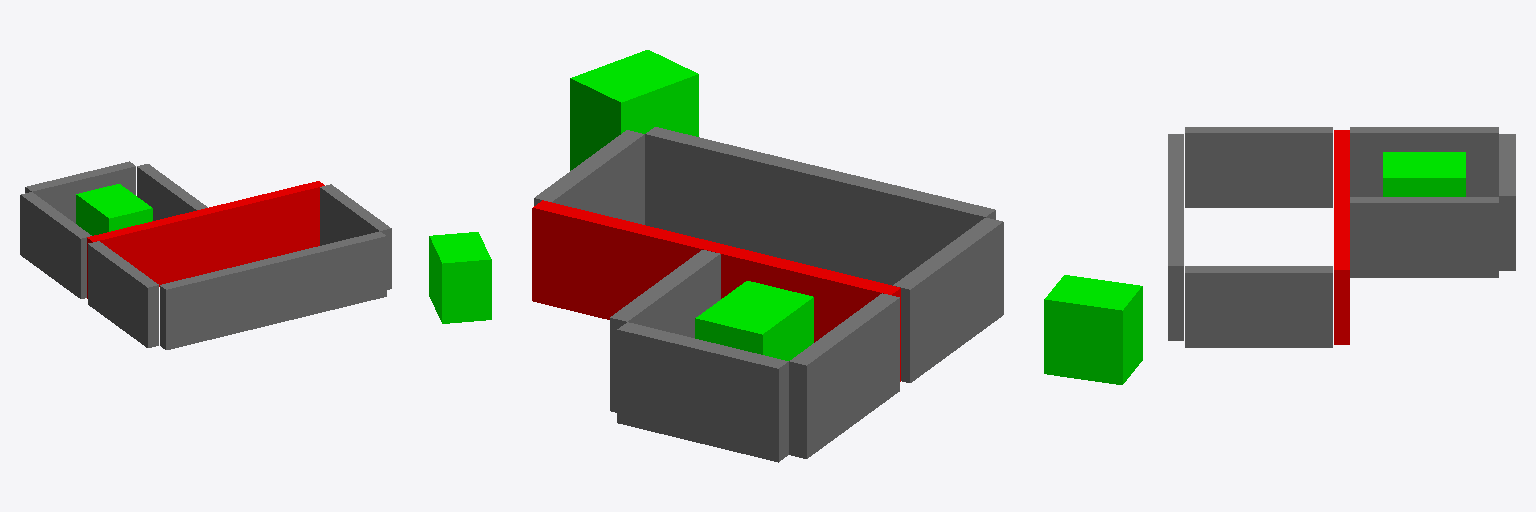
robot.urdf — move_n_times2:
<?xml version="1.0"?>
<!-- created with Phobos 1.0.1 "Capricious Choutengan" -->
  <robot name="move_n_times2">

    <link name="base_link">
    </link>

    <link name="goal">
    </link>

    <link name="link_0_joint_0">
      <visual name="visual_box_2_link_0">
        <origin xyz="0 0 0" rpy="0 0 0"/>
        <geometry>
          <box size="0.374 0.499 0.499"/>
        </geometry>
        <material name="green"/>
      </visual>
      <collision name="collision_box_2_link_0">
        <origin xyz="0 0 0" rpy="0 0 0"/>
        <geometry>
          <box size="0.374 0.499 0.499"/>
        </geometry>
      </collision>
    </link>

    <link name="link_0_joint_0.001">
      <visual name="visual_box_2_link_0.001">
        <origin xyz="0 0 0" rpy="0 0 0"/>
        <geometry>
          <box size="0.37363 0.4985 0.4985"/>
        </geometry>
        <material name="green_translucent"/>
      </visual>
    </link>

    <link name="link_0_joint_1">
    </link>

    <link name="link_0_joint_1.001">
    </link>

    <link name="link_0_joint_2">
    </link>

    <link name="link_1_joint_0">
      <visual name="visual_box_3_link_1">
        <origin xyz="0 0 0" rpy="0 0 0"/>
        <geometry>
          <box size="1.999 0.099 0.499"/>
        </geometry>
        <material name="red"/>
      </visual>
      <collision name="collision_box_3_link_1">
        <origin xyz="0 0 0" rpy="0 0 0"/>
        <geometry>
          <box size="1.999 0.099 0.499"/>
        </geometry>
      </collision>
    </link>

    <link name="link_fixed_4_wall_north_0">
      <visual name="visual_box_fixed_4_wall_north_0">
        <origin xyz="0 0 0" rpy="0 0 0"/>
        <geometry>
          <box size="0.899 0.099 0.499"/>
        </geometry>
        <material name="gray"/>
      </visual>
      <collision name="collision_box_fixed_4_wall_north_0">
        <origin xyz="0 0 0" rpy="0 0 0"/>
        <geometry>
          <box size="0.899 0.099 0.499"/>
        </geometry>
      </collision>
    </link>

    <link name="link_fixed_5_wall_northwest_0">
      <visual name="visual_box_fixed_5_wall_northwest_0">
        <origin xyz="0 0 0" rpy="0 0 0"/>
        <geometry>
          <box size="0.099 0.899 0.499"/>
        </geometry>
        <material name="gray"/>
      </visual>
      <collision name="collision_box_fixed_5_wall_northwest_0">
        <origin xyz="0 0 0" rpy="0 0 0"/>
        <geometry>
          <box size="0.099 0.899 0.499"/>
        </geometry>
      </collision>
    </link>

    <link name="link_fixed_6_wall_northeast_0">
      <visual name="visual_box_fixed_6_wall_northeast_0">
        <origin xyz="0 0 0" rpy="0 0 0"/>
        <geometry>
          <box size="0.099 0.899 0.499"/>
        </geometry>
        <material name="gray"/>
      </visual>
      <collision name="collision_box_fixed_6_wall_northeast_0">
        <origin xyz="0 0 0" rpy="0 0 0"/>
        <geometry>
          <box size="0.099 0.899 0.499"/>
        </geometry>
      </collision>
    </link>

    <link name="link_fixed_7_wall_south_1">
      <visual name="visual_box_fixed_7_wall_south_1">
        <origin xyz="0 0 0" rpy="0 0 0"/>
        <geometry>
          <box size="1.899 0.099 0.499"/>
        </geometry>
        <material name="gray"/>
      </visual>
      <collision name="collision_box_fixed_7_wall_south_1">
        <origin xyz="0 0 0" rpy="0 0 0"/>
        <geometry>
          <box size="1.899 0.099 0.499"/>
        </geometry>
      </collision>
    </link>

    <link name="link_fixed_8_wall_southwest_1">
      <visual name="visual_box_fixed_8_wall_southwest_1">
        <origin xyz="0 0 0" rpy="0 0 0"/>
        <geometry>
          <box size="0.099 0.899 0.499"/>
        </geometry>
        <material name="gray"/>
      </visual>
      <collision name="collision_box_fixed_8_wall_southwest_1">
        <origin xyz="0 0 0" rpy="0 0 0"/>
        <geometry>
          <box size="0.099 0.899 0.499"/>
        </geometry>
      </collision>
    </link>

    <link name="link_fixed_9_wall_southeast_1">
      <visual name="visual_box_fixed_9_wall_southeast_1">
        <origin xyz="0 0 0" rpy="0 0 0"/>
        <geometry>
          <box size="0.099 0.899 0.499"/>
        </geometry>
        <material name="gray"/>
      </visual>
      <collision name="collision_box_fixed_9_wall_southeast_1">
        <origin xyz="0 0 0" rpy="0 0 0"/>
        <geometry>
          <box size="0.099 0.899 0.499"/>
        </geometry>
      </collision>
    </link>

    <joint name="goal" type="fixed">
      <origin xyz="1.82414 -2.0 0.25" rpy="0 0 2.81379"/>
      <parent link="base_link"/>
      <child link="goal"/>
      <limit effort="0" velocity="0"/>
    </joint>

    <joint name="link_0_joint_0" type="revolute">
      <origin xyz="0 0 0" rpy="0 0 0"/>
      <parent link="link_0_joint_1"/>
      <child link="link_0_joint_0"/>
      <axis xyz="0 0 1.0"/>
      <limit lower="-3.14159" upper="3.14159" effort="0" velocity="0"/>
    </joint>

    <joint name="link_0_joint_0.001" type="fixed">
      <origin xyz="0 0 0" rpy="0 0 0"/>
      <parent link="link_0_joint_1.001"/>
      <child link="link_0_joint_0.001"/>
      <limit effort="0" velocity="0"/>
    </joint>

    <joint name="link_0_joint_1" type="prismatic">
      <origin xyz="0 0 0" rpy="0 0 0"/>
      <parent link="link_0_joint_2"/>
      <child link="link_0_joint_1"/>
      <axis xyz="0 1.0 0"/>
      <limit lower="-2.0" upper="0.5" effort="0" velocity="0"/>
    </joint>

    <joint name="link_0_joint_1.001" type="fixed">
      <origin xyz="0 0 0" rpy="0 0 0"/>
      <parent link="goal"/>
      <child link="link_0_joint_1.001"/>
      <limit effort="0" velocity="0"/>
    </joint>

    <joint name="link_0_joint_2" type="prismatic">
      <origin xyz="0 0 0.25" rpy="0 0 0"/>
      <parent link="base_link"/>
      <child link="link_0_joint_2"/>
      <axis xyz="1.0 0 0"/>
      <limit lower="-2.0" upper="2.0" effort="0" velocity="0"/>
    </joint>

    <joint name="link_1_joint_0" type="prismatic">
      <origin xyz="0.5 -0.5 0.25" rpy="0 0 0"/>
      <parent link="base_link"/>
      <child link="link_1_joint_0"/>
      <axis xyz="1.0 0 0"/>
      <limit lower="-1.0" upper="1.0" effort="0" velocity="0"/>
    </joint>

    <joint name="link_fixed_4_wall_north_0" type="fixed">
      <origin xyz="0 0.5 0.25" rpy="0 0 0"/>
      <parent link="base_link"/>
      <child link="link_fixed_4_wall_north_0"/>
    </joint>

    <joint name="link_fixed_5_wall_northwest_0" type="fixed">
      <origin xyz="-0.5 0 0.25" rpy="0 0 0"/>
      <parent link="base_link"/>
      <child link="link_fixed_5_wall_northwest_0"/>
    </joint>

    <joint name="link_fixed_6_wall_northeast_0" type="fixed">
      <origin xyz="0.5 0 0.25" rpy="0 0 0"/>
      <parent link="base_link"/>
      <child link="link_fixed_6_wall_northeast_0"/>
    </joint>

    <joint name="link_fixed_7_wall_south_1" type="fixed">
      <origin xyz="0.5 -1.5 0.25" rpy="0 0 0"/>
      <parent link="base_link"/>
      <child link="link_fixed_7_wall_south_1"/>
    </joint>

    <joint name="link_fixed_8_wall_southwest_1" type="fixed">
      <origin xyz="-0.5 -1.0 0.25" rpy="0 0 0"/>
      <parent link="base_link"/>
      <child link="link_fixed_8_wall_southwest_1"/>
    </joint>

    <joint name="link_fixed_9_wall_southeast_1" type="fixed">
      <origin xyz="1.5 -1.0 0.25" rpy="0 0 0"/>
      <parent link="base_link"/>
      <child link="link_fixed_9_wall_southeast_1"/>
    </joint>

    <material name="gray">
      <color rgba="0.5 0.5 0.5 1.0"/>
    </material>

    <material name="green">
      <color rgba="0 1.0 0 1.0"/>
    </material>

    <material name="green_translucent">
      <color rgba="0 1.0 0 0.25"/>
    </material>

    <material name="red">
      <color rgba="1.0 0 0 1.0"/>
    </material>

  </robot>

--- Render facts (derived) ---
The picture shows the robot from 3 angles, left to right: view 1: azimuth 30°, elevation 25°; view 2: azimuth 150°, elevation 25°; view 3: azimuth 270°, elevation 25°; orthographic projection.
Robot: move_n_times2 — 14 links, 13 joints (1 revolute, 3 prismatic, 9 fixed); root link base_link; default pose: every joint at zero.
Links seen in each view (by area): view 1: link_fixed_7_wall_south_1, link_1_joint_0, link_0_joint_0.001, link_fixed_8_wall_southwest_1, link_fixed_5_wall_northwest_0, link_0_joint_0, link_fixed_9_wall_southeast_1, link_fixed_4_wall_north_0, link_fixed_6_wall_northeast_0; view 2: link_fixed_7_wall_south_1, link_1_joint_0, link_fixed_4_wall_north_0, link_fixed_5_wall_northwest_0, link_fixed_8_wall_southwest_1, link_0_joint_0.001, link_0_joint_0, link_fixed_9_wall_southeast_1, link_fixed_6_wall_northeast_0; view 3: link_fixed_9_wall_southeast_1, link_fixed_6_wall_northeast_0, link_fixed_8_wall_southwest_1, link_0_joint_0.001, link_fixed_5_wall_northwest_0, link_0_joint_0, link_1_joint_0, link_fixed_7_wall_south_1, link_fixed_4_wall_north_0.
Link boxes in pixels (box(x1,y1,x2,y2)): link_fixed_7_wall_south_1: box(160, 231, 386, 349); link_1_joint_0: box(87, 181, 324, 298); link_0_joint_0.001: box(429, 232, 491, 323); link_fixed_8_wall_southwest_1: box(88, 241, 158, 347); link_fixed_5_wall_northwest_0: box(20, 192, 91, 298); link_0_joint_0: box(76, 184, 152, 235); link_fixed_9_wall_southeast_1: box(320, 184, 391, 289); link_fixed_4_wall_north_0: box(25, 161, 135, 223); link_fixed_6_wall_northeast_0: box(137, 164, 207, 220); link_fixed_7_wall_south_1: box(645, 127, 995, 285); link_1_joint_0: box(532, 200, 900, 381); link_fixed_4_wall_north_0: box(617, 322, 788, 462); link_fixed_5_wall_northwest_0: box(789, 293, 899, 458); link_fixed_8_wall_southwest_1: box(893, 218, 1003, 382); link_0_joint_0.001: box(570, 50, 698, 170); link_0_joint_0: box(695, 281, 813, 360); link_fixed_9_wall_southeast_1: box(534, 130, 644, 224); link_fixed_6_wall_northeast_0: box(610, 250, 720, 412); link_fixed_9_wall_southeast_1: box(1185, 266, 1332, 347); link_fixed_6_wall_northeast_0: box(1350, 197, 1498, 277); link_fixed_8_wall_southwest_1: box(1185, 127, 1332, 207); link_0_joint_0.001: box(1044, 275, 1142, 384); link_fixed_5_wall_northwest_0: box(1350, 127, 1498, 196); link_0_joint_0: box(1383, 152, 1465, 196); link_1_joint_0: box(1334, 130, 1349, 344); link_fixed_7_wall_south_1: box(1168, 134, 1183, 340); link_fixed_4_wall_north_0: box(1499, 134, 1515, 270).
Bounding box of the posed robot: 2.63 × 2.85 × 0.499 m (x, y, z).
Geometry: primitives only (box / cylinder / sphere), no mesh files.